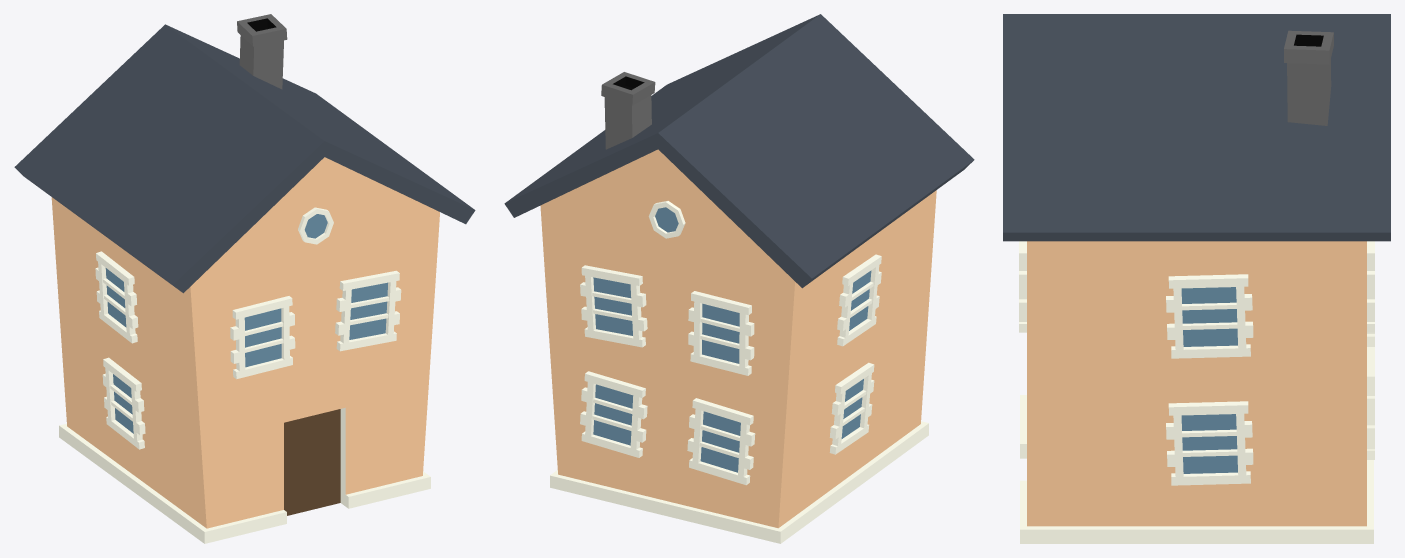
Rendered from house1.gltf.
3 renders of one model, left to right at view 1: azimuth 30°, elevation 25°; view 2: azimuth 150°, elevation 25°; view 3: azimuth 270°, elevation 25°, orthographic. The views are drawn at different scales.
Parts seen in each view (by area): view 1: h2; view 2: h2; view 3: h2.
Part boxes in pixels (x1,y1,x2,y2): h2: [14, 14, 475, 543]; h2: [504, 14, 974, 543]; h2: [1003, 14, 1390, 543].
Size of the model in its own units: 7.12 by 8.78 by 6.51.
1 material, 1 textured.
